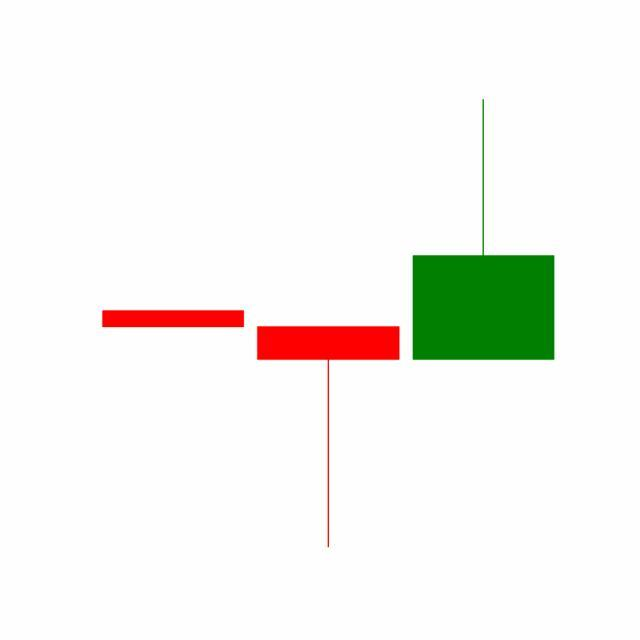Hammer: (250, 324, 407, 551)
